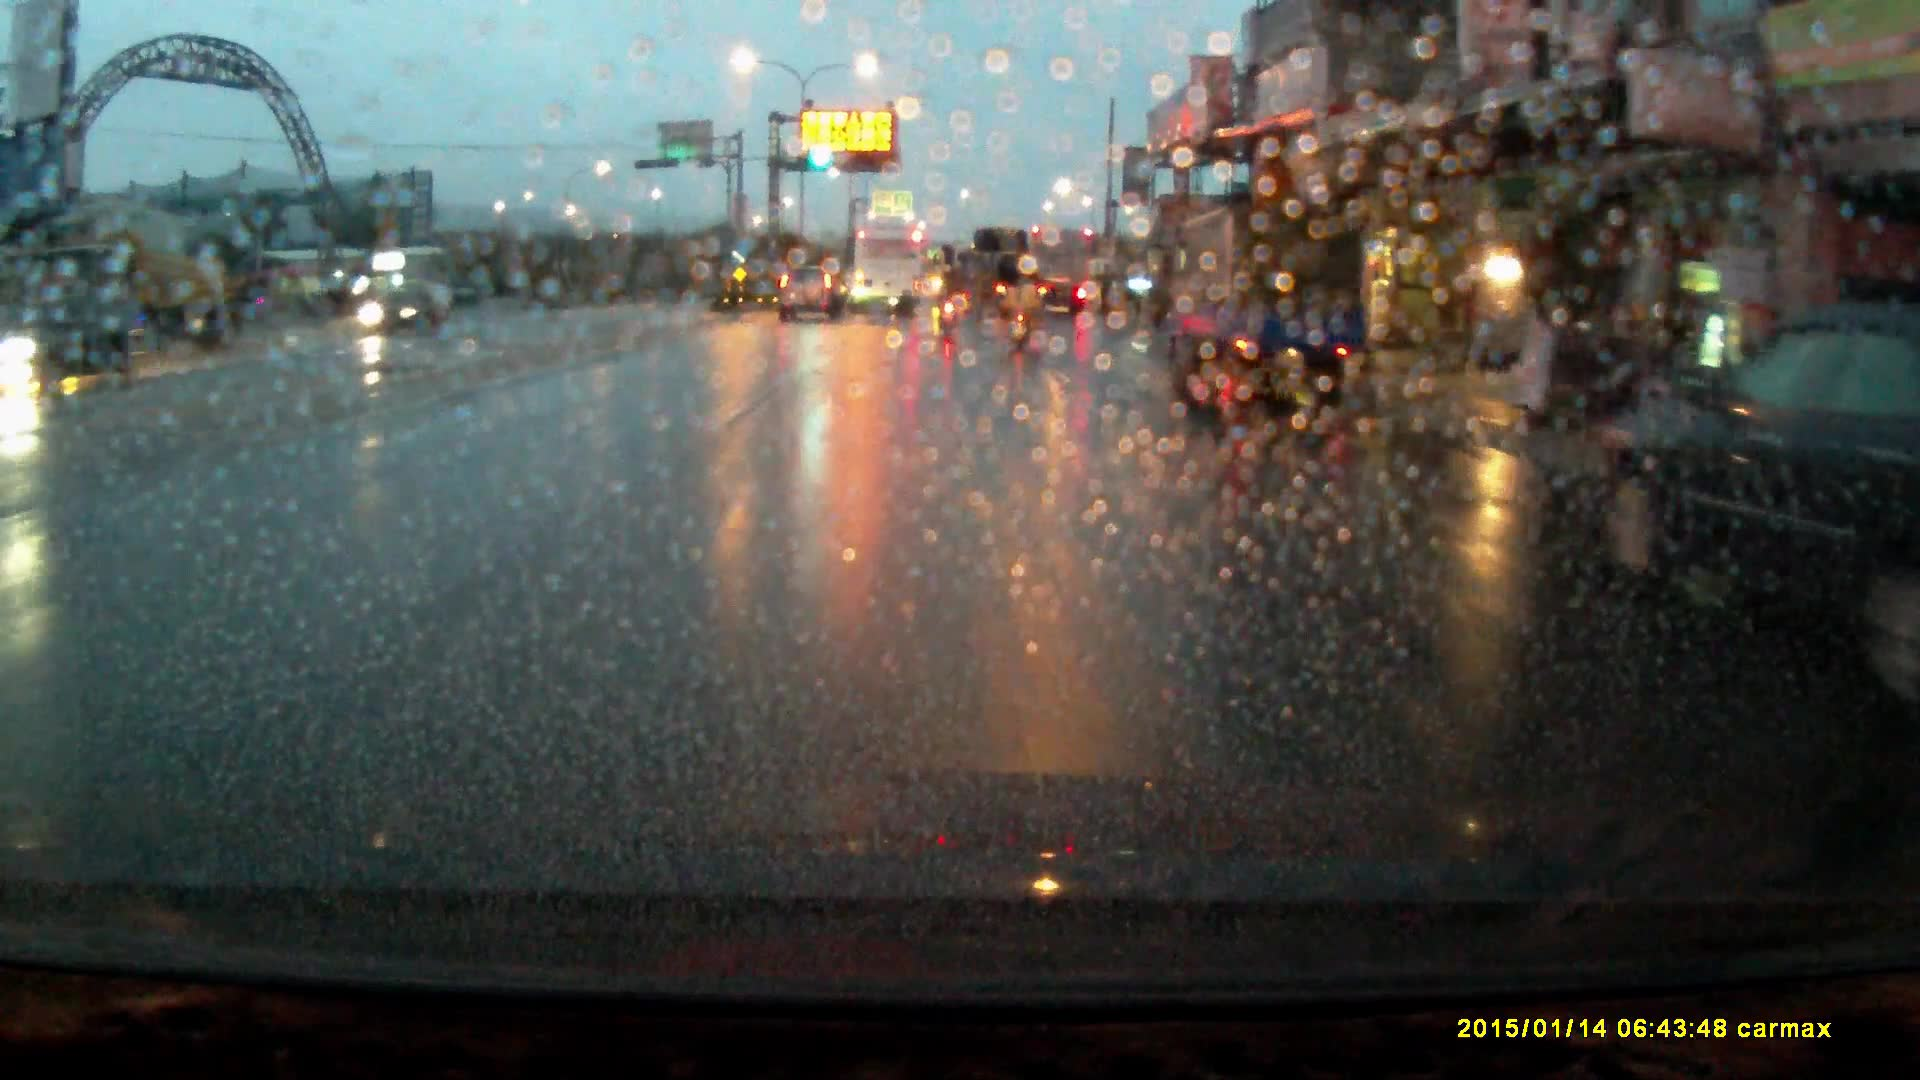rider: (1002, 276, 1041, 361), (932, 270, 964, 334)
vehicle: (1160, 213, 1373, 415), (26, 237, 247, 353), (970, 230, 1043, 322), (852, 232, 925, 319), (1033, 230, 1098, 317), (363, 281, 445, 342), (778, 267, 845, 327)
